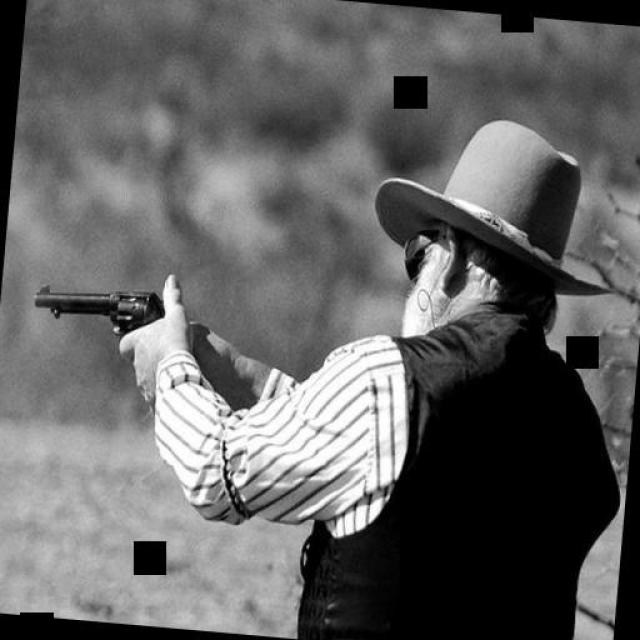gun: (27, 275, 166, 339)
